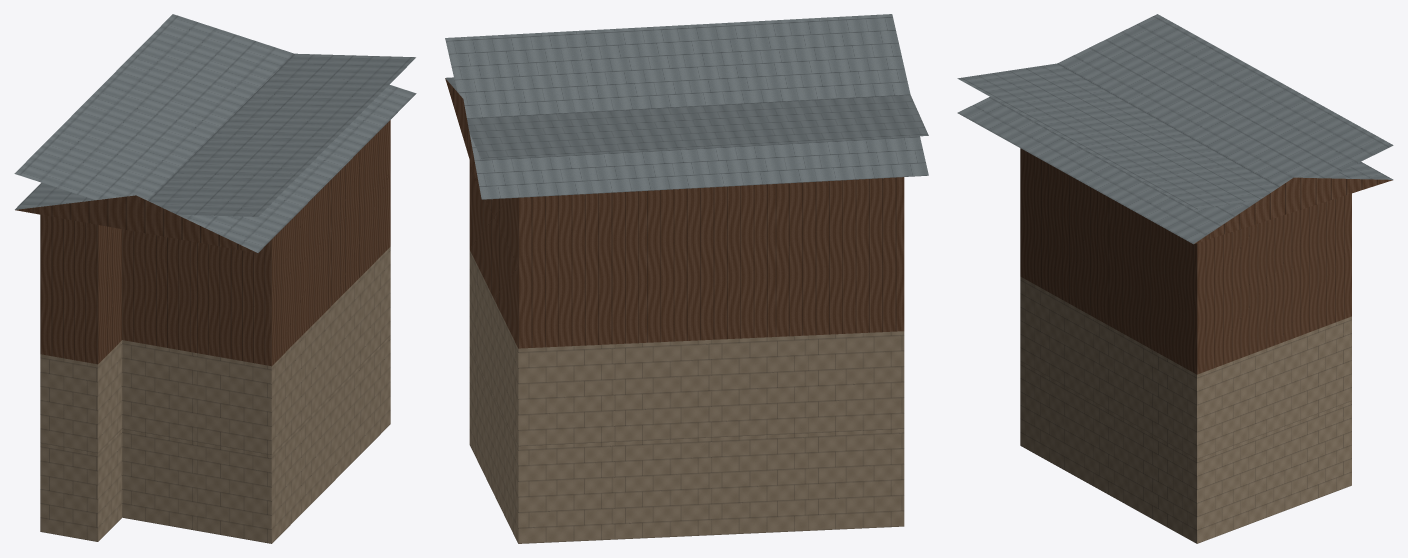
The model's file is bld_c3_27_504.gltf.
3 renders of one model, left to right at view 1: azimuth 30°, elevation 25°; view 2: azimuth 150°, elevation 25°; view 3: azimuth 270°, elevation 25°, orthographic. The views are drawn at different scales.
Visible parts, largest first — view 1: bld_c3_27_504; view 2: bld_c3_27_504; view 3: bld_c3_27_504.
Boxes of the visible parts, x1=… form: bld_c3_27_504: x1=14, y1=14, x2=416, y2=543; bld_c3_27_504: x1=445, y1=14, x2=928, y2=543; bld_c3_27_504: x1=957, y1=14, x2=1393, y2=543.
Bounding box in the file's own units: 12.16 × 10 × 11.46.
4 materials, 4 textured.
